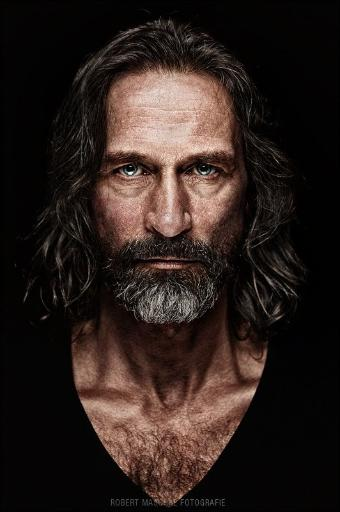left_eye: (185, 161, 225, 182)
left_lip_corner: (190, 253, 204, 273)
right_eye: (112, 161, 152, 184)
right_lip_corner: (135, 253, 151, 273)
